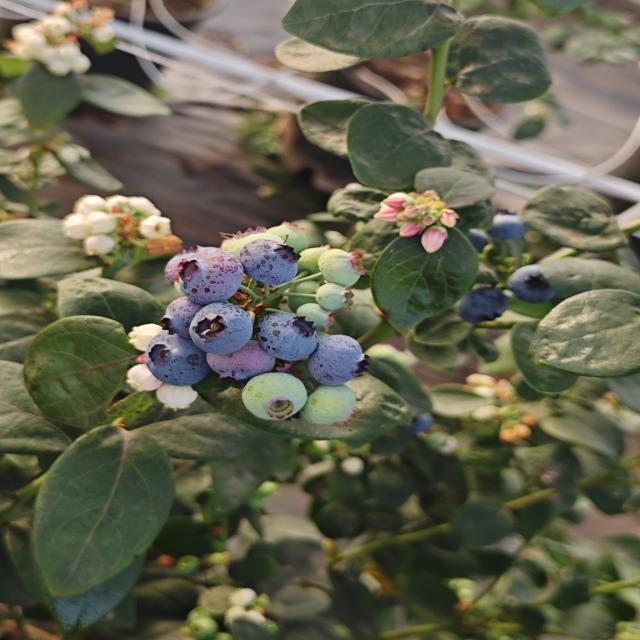ripe: (163, 246, 245, 306), (260, 308, 334, 374), (142, 330, 210, 388), (186, 300, 255, 356), (306, 332, 370, 388), (236, 238, 302, 288), (449, 285, 511, 324), (448, 218, 497, 261), (156, 295, 206, 336), (511, 259, 548, 296), (490, 218, 535, 246), (397, 409, 437, 440)
